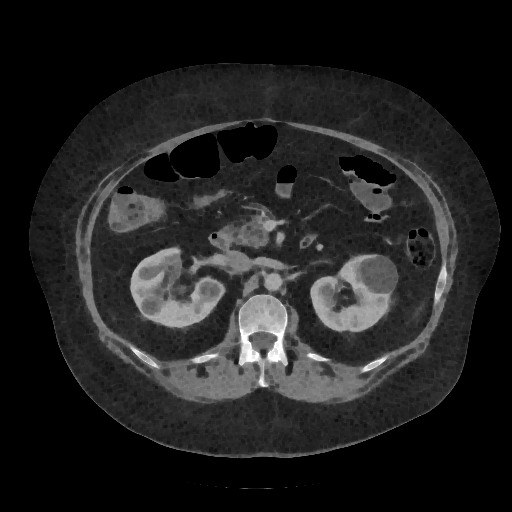Lesion: (355, 255, 402, 297)
